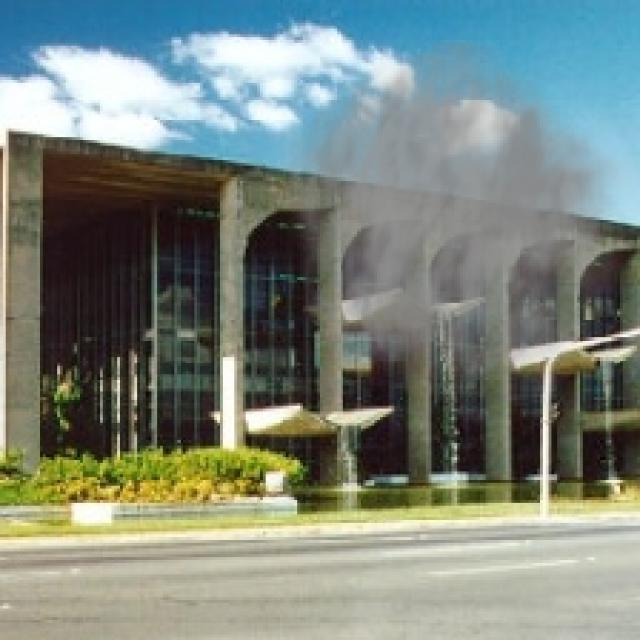Smoke: (280, 37, 637, 434)
